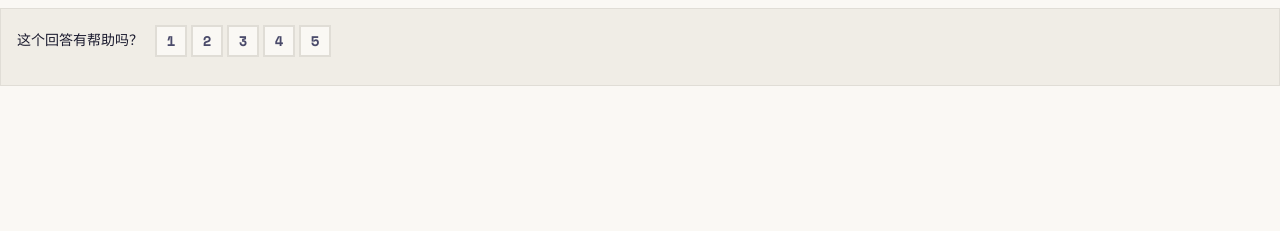
FeedbackRating › shows loading state during submission
Click the button "5": click(315, 41) [299,25,331,57]
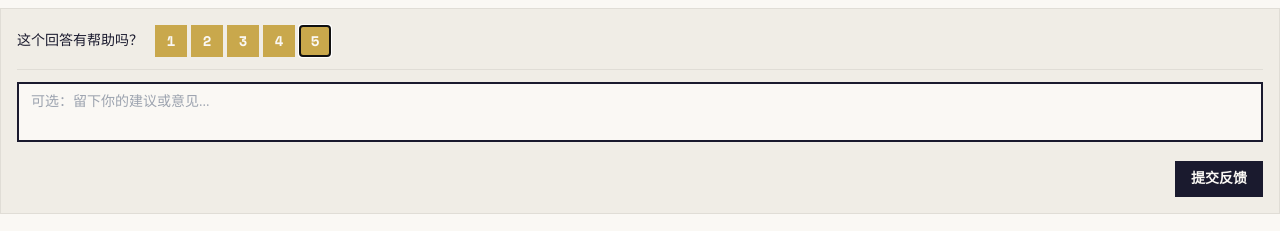
Click the button "提交反馈": click(1219, 179) [1175,161,1263,197]
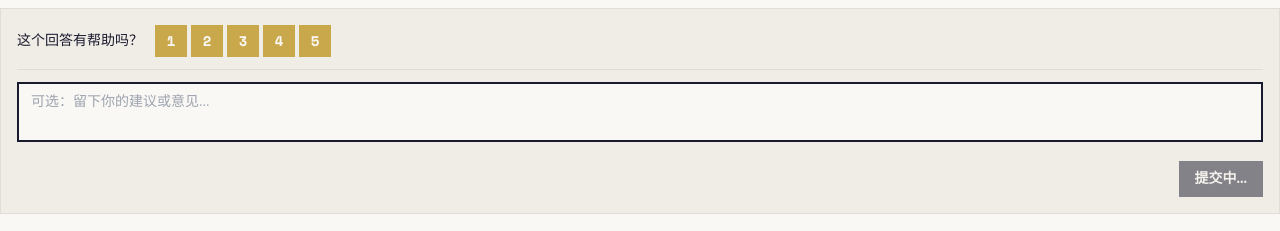
expect the button "提交中..." is shown: met, box [1178,161,1263,197]
